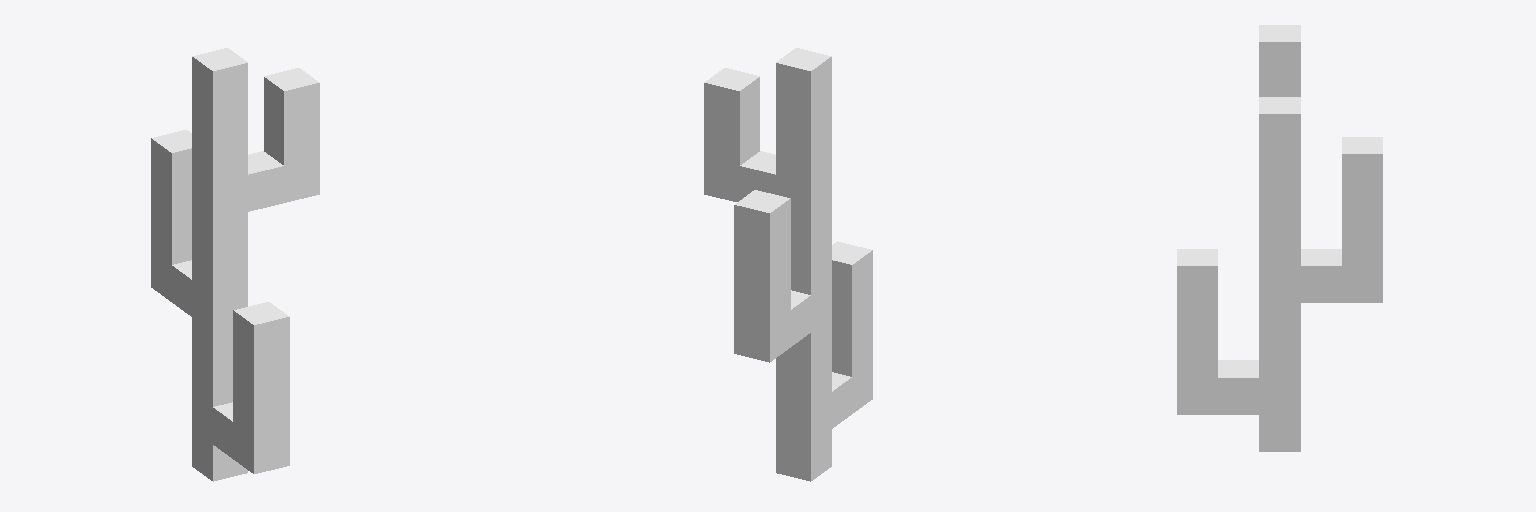
The model's file is Kaktus_03.obj.
3 views of the same model, side by side, from view 1: azimuth 30°, elevation 25°; view 2: azimuth 150°, elevation 25°; view 3: azimuth 270°, elevation 25° (orthographic).
Bounding box in the file's own units: 3 × 11 × 5.